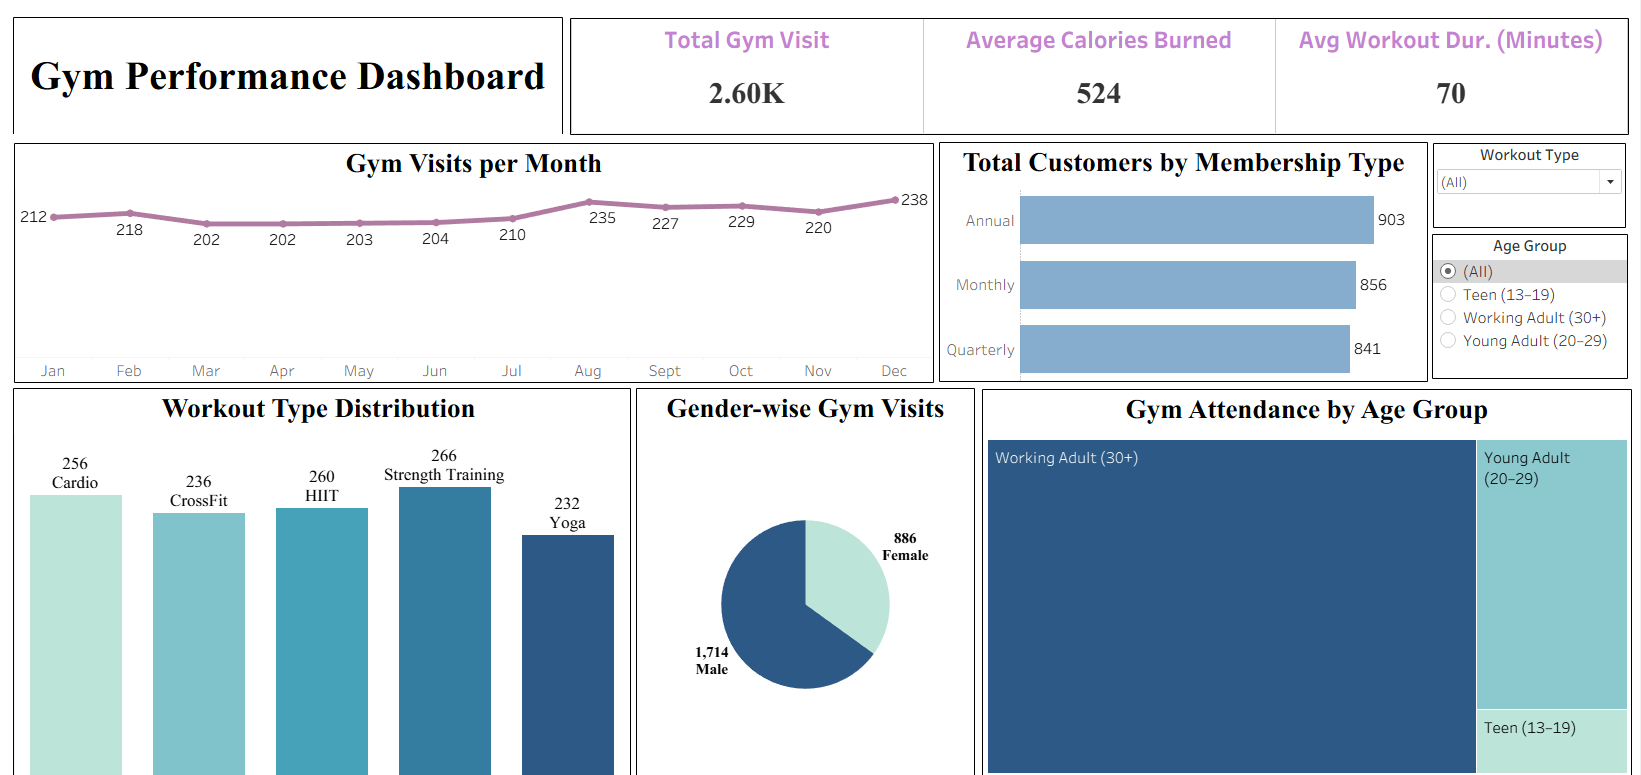

The dashboard page shown, as its layout file describes it:
{"tool":"tableau","page":{"name":"Dashboard 1","canvas":[1000,1000],"units":"permille","ordinal":0},"visuals":[{"type":"text","box":[9.1,21.2,335.2,149.8]},{"type":"worksheet","title":"KPI","mark":"Automatic","box":[348.6,22.9,645.3,149]},{"type":"worksheet","title":"Sheet 7","mark":"Automatic","rows":["membership_type"],"cols":["Calculation_1312300851118081"],"box":[573.4,180.9,298,305.7]},{"type":"worksheet","title":"Visit Per month","mark":"Line","rows":["Calculation_1312300855013381"],"cols":["visit_date"],"box":[9.8,182.2,560.6,305.7]},{"type":"filter","title":"Sheet 3","param":"[federated.1lb4h2u1jo8e2a10v53o61n44im6].[none:workout_type:nk]","box":[874.5,182.2,117.6,108.3]},{"type":"filter","title":"Sheet 3","param":"[federated.1lb4h2u1jo8e2a10v53o61n44im6].[none:Calculation_1312300850188288:nk]","box":[873.9,298.1,119.4,184.7]},{"type":"worksheet","title":"Sheet 3","mark":"Bar","rows":["Calculation_1312300855013381"],"cols":["workout_type"],"box":[9.1,494.3,376.6,494.3]},{"type":"worksheet","title":"Sheet 6","mark":"Pie","box":[388.8,494.3,206.6,494.3]},{"type":"worksheet","title":"Sheet 5","mark":"Automatic","box":[599.6,495.5,396.1,496.8]}]}

Visuals, with their boxes on the dashboard's canvas, which has no fixed pixel size, in thousandths of its width and height (x1, y1, x2, y2). These are canvas units, not pixel positions in the 1641x775 screenshot, which may show the page scaled, cropped or inside an application window:
text: {"left": 9, "top": 21, "right": 344, "bottom": 171}
"KPI" worksheet: {"left": 349, "top": 23, "right": 994, "bottom": 172}
"Sheet 7" worksheet: {"left": 573, "top": 181, "right": 871, "bottom": 487}
"Visit Per month" worksheet (Line marks): {"left": 10, "top": 182, "right": 570, "bottom": 488}
"Sheet 3" filter: {"left": 874, "top": 182, "right": 992, "bottom": 290}
"Sheet 3" filter: {"left": 874, "top": 298, "right": 993, "bottom": 483}
"Sheet 3" worksheet (Bar marks): {"left": 9, "top": 494, "right": 386, "bottom": 989}
"Sheet 6" worksheet (Pie marks): {"left": 389, "top": 494, "right": 595, "bottom": 989}
"Sheet 5" worksheet: {"left": 600, "top": 496, "right": 996, "bottom": 992}
